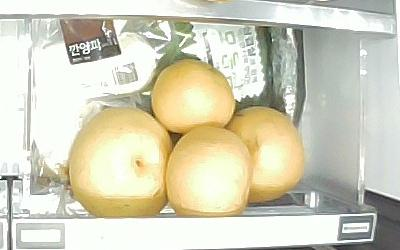pear: (68, 106, 172, 217), (164, 126, 252, 217), (222, 106, 303, 204), (151, 59, 235, 134)
